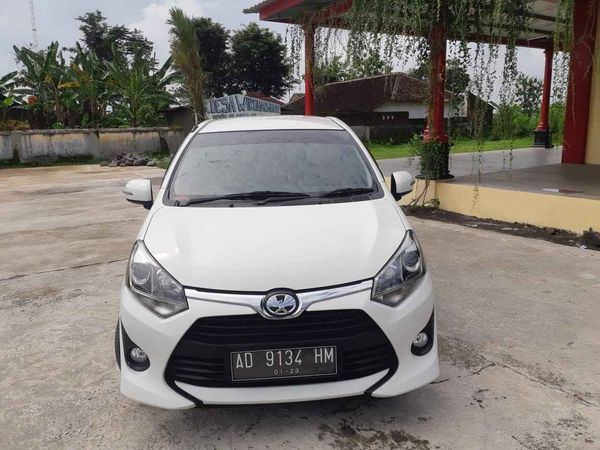plate: (226, 340, 345, 381)
